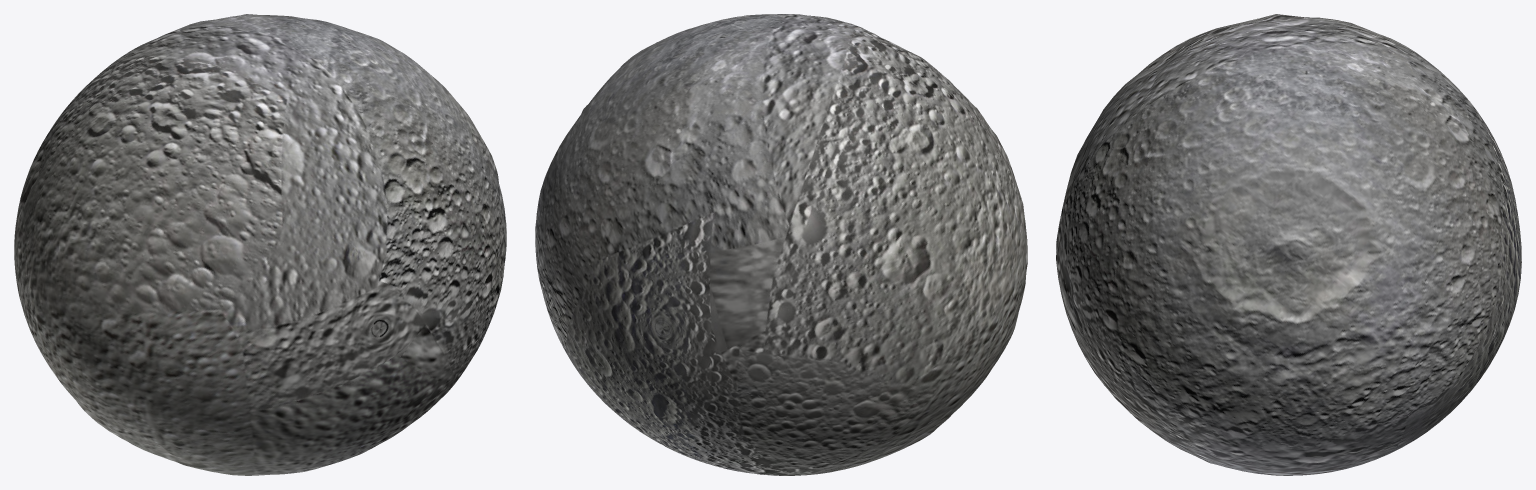
File: mimas.glb
3 renders of one model, left to right at view 1: azimuth 30°, elevation 25°; view 2: azimuth 150°, elevation 25°; view 3: azimuth 270°, elevation 25°, orthographic.
Parts seen in each view (by area): view 1: Mimas; view 2: Mimas; view 3: Mimas.
Boxes of the visible parts, <box> form: Mimas: <box>14,14,506,475</box>; Mimas: <box>535,14,1027,475</box>; Mimas: <box>1056,14,1521,475</box>.
Bounding box in the file's own units: 1.21 × 1.11 × 1.14.
1 material, 1 textured.
